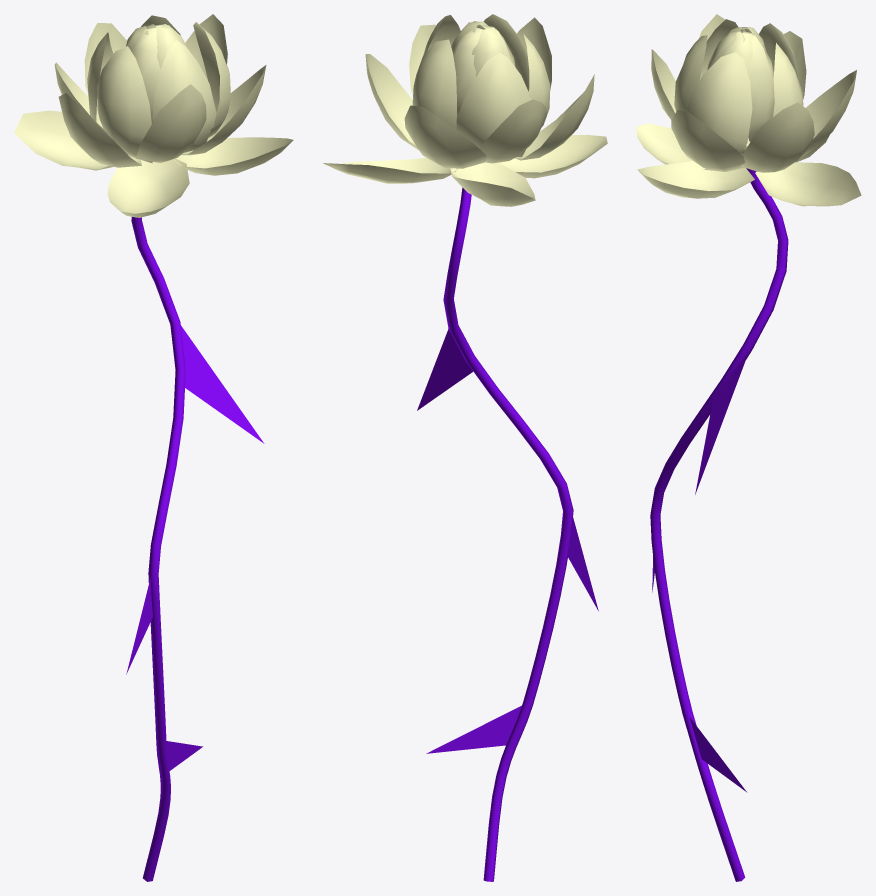
Rendered from Lotus_Flower_A.FBX.
3 views of the same model, side by side, from view 1: azimuth 30°, elevation 25°; view 2: azimuth 150°, elevation 25°; view 3: azimuth 270°, elevation 25° (orthographic).
Parts seen in each view (by area): view 1: Geometry_Lotus_Flower_B_LOD00; view 2: Geometry_Lotus_Flower_B_LOD00; view 3: Geometry_Lotus_Flower_B_LOD00.
Part boxes in pixels (bbox=[...]): Geometry_Lotus_Flower_B_LOD00: bbox=[14, 14, 293, 881]; Geometry_Lotus_Flower_B_LOD00: bbox=[323, 14, 607, 881]; Geometry_Lotus_Flower_B_LOD00: bbox=[636, 14, 861, 881].
Size of what is drawn, in the model's own units: 23.81 by 96.93 by 23.17.
